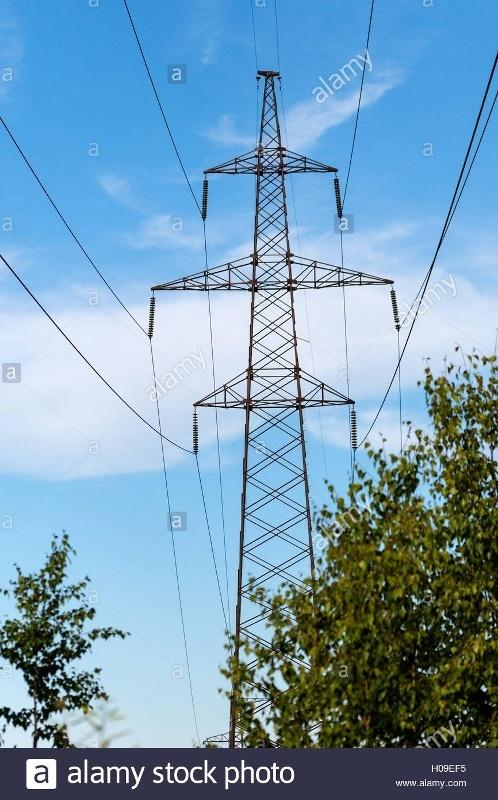power_tower: (151, 64, 405, 756)
